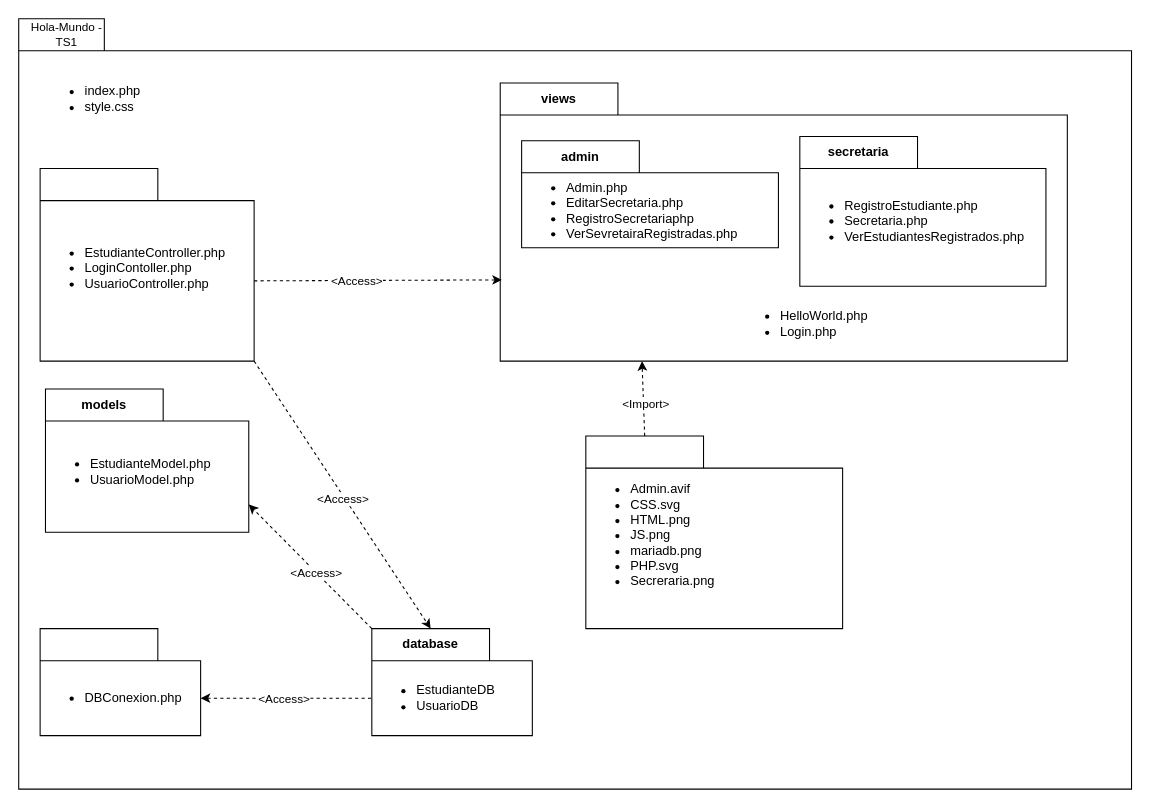
Some shapes in this 1150 by 808 pixel diagram are drawn without their labels. The centre of each missing label's shape, as x and y in pixels:
"controllers" belongs at point (146, 264).
"images" belongs at point (714, 532).
"utils" belongs at point (120, 682).
